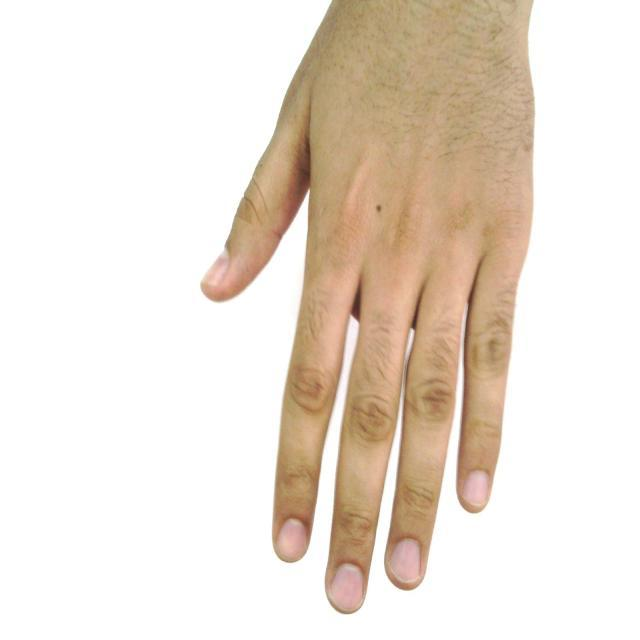Fingernail: (330, 564, 363, 611), (391, 539, 420, 582), (278, 519, 307, 560), (202, 254, 229, 286), (464, 471, 488, 506)
